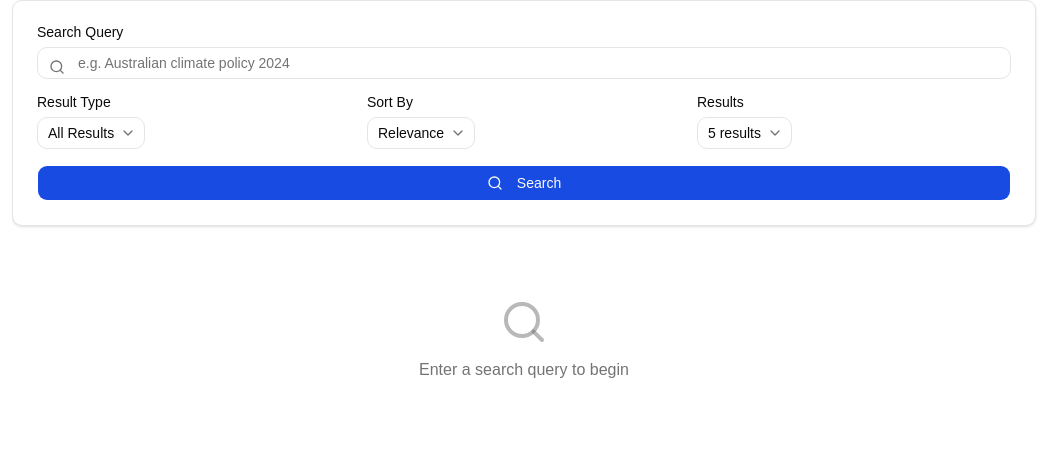
Test: ResearcherSearchPage › submits form and renders result cards
Type "climate" into the field with placeholder "e.g. Australian climate policy 2024" at (524, 63), box [37,47,1011,79]
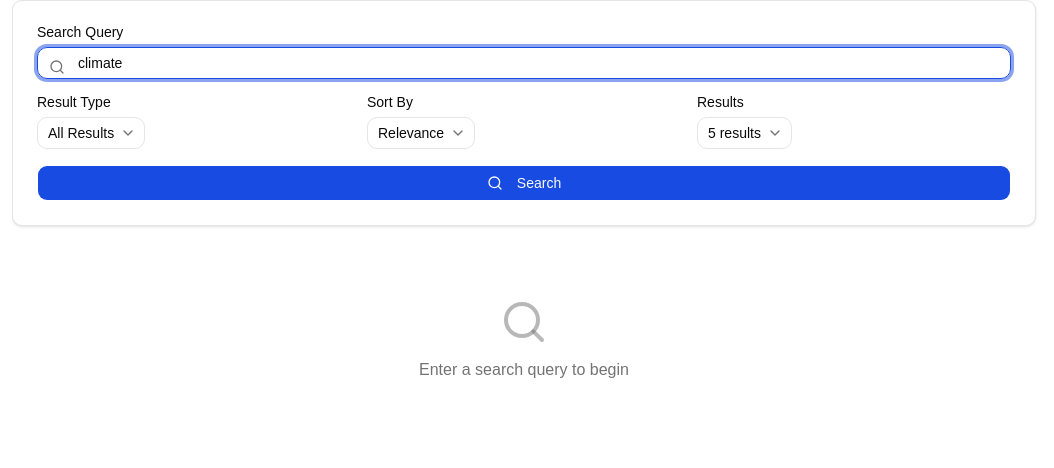
Click the button "Search" at (524, 183), box [37,165,1011,201]
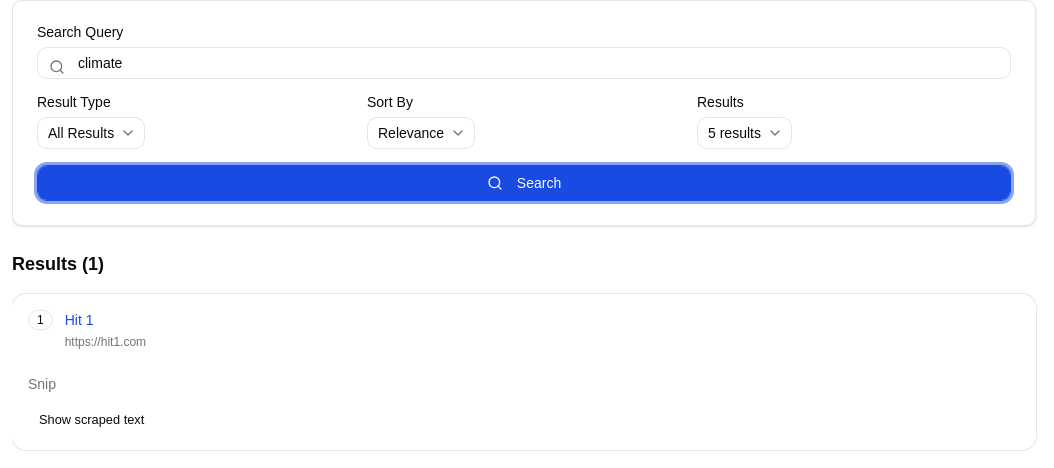
Check: the link "Hit 1" is shown, box [65,312,94,328]
Check: the text "https://hit1.com" is shown, box [65,334,146,350]
